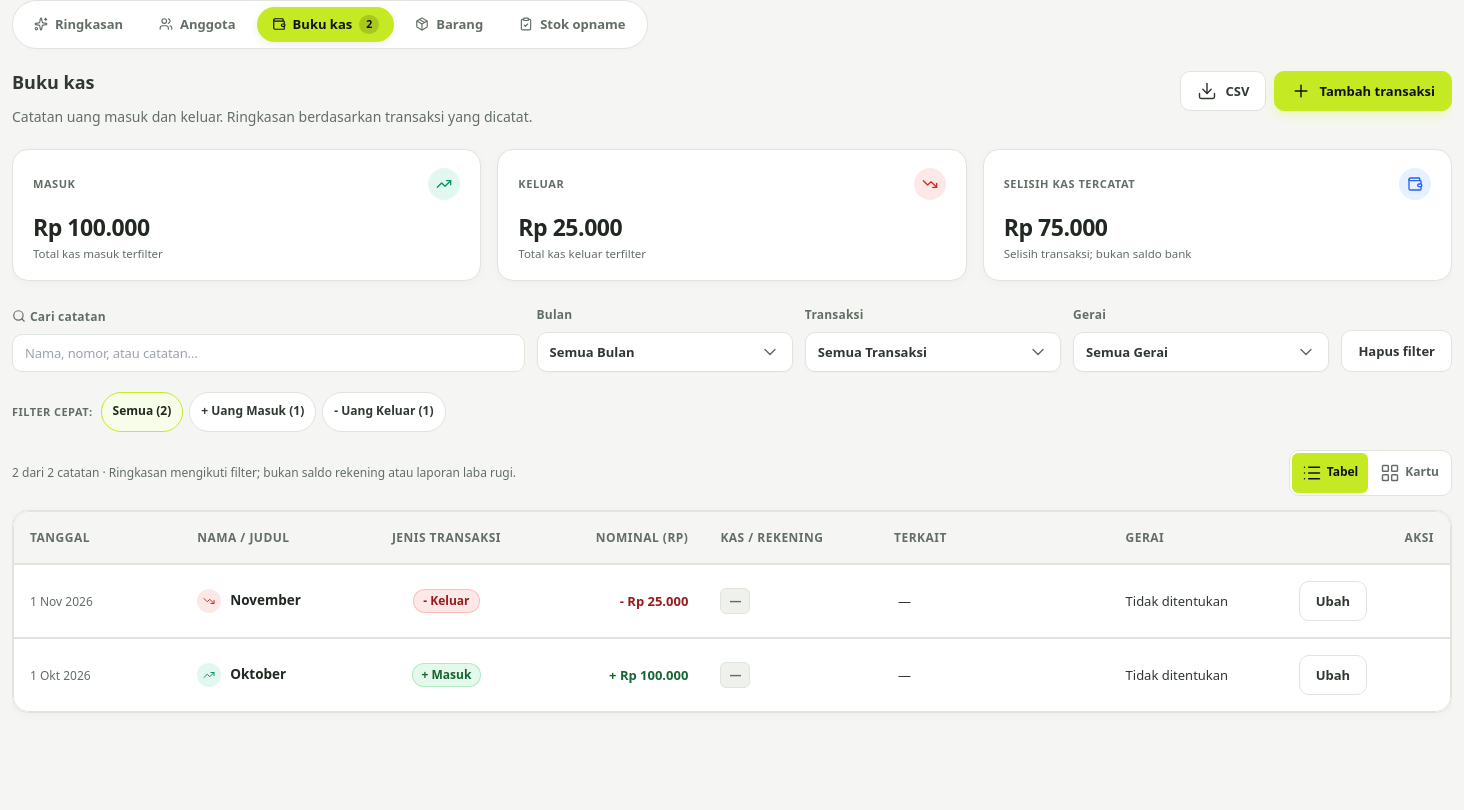
Scenario: ringkasan kas mengikuti filter bulan
Select "Oktober 2026 (Bulan Ini)" in the dropdown labelled "Bulan" at (665, 338), box [536,304,793,372]
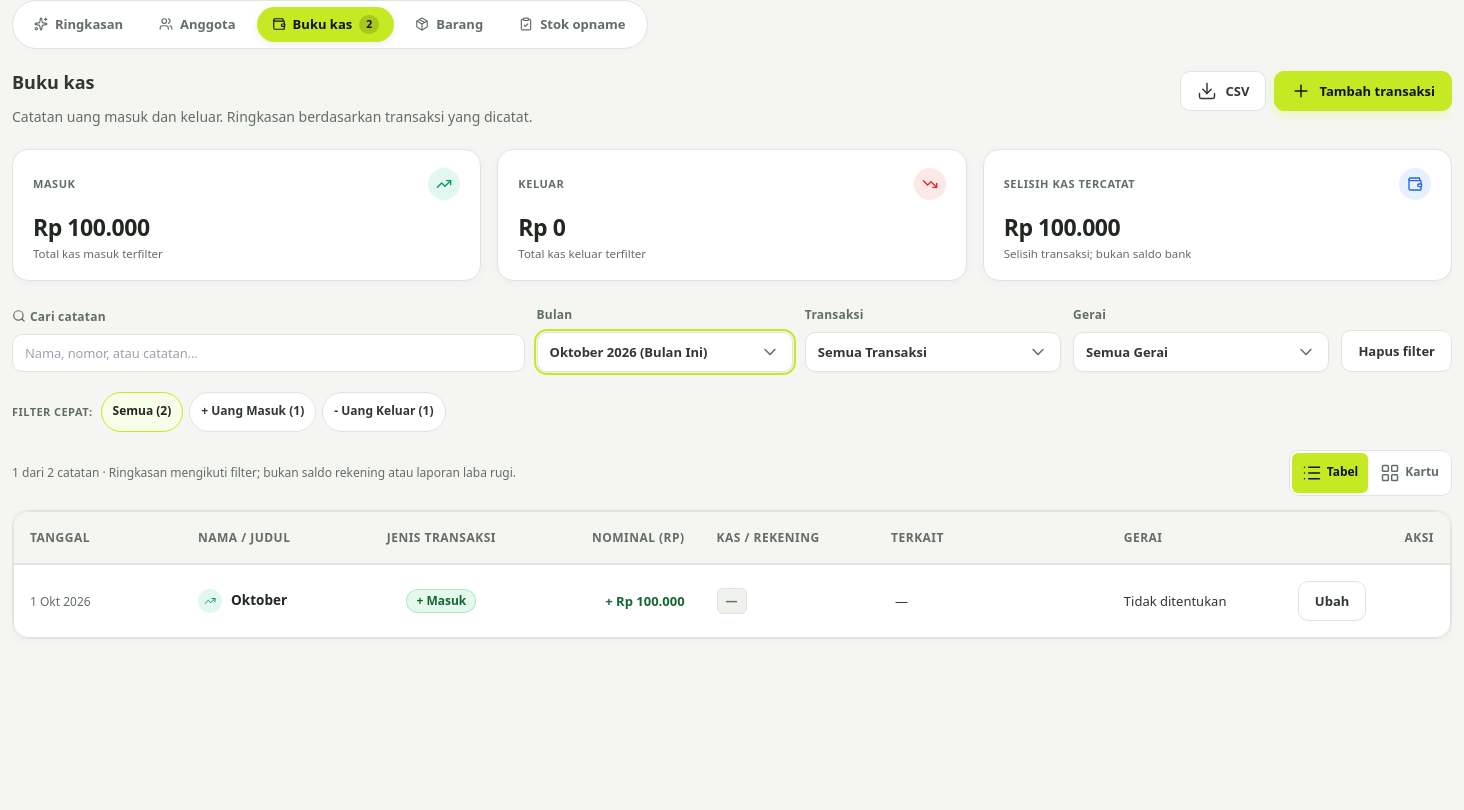
Expected: the text "Oktober" is shown, [231,592,287,610]
Expected: the button "November" is gone
Expected: the text "1 dari 2 catatan" is shown, [12,463,516,482]
